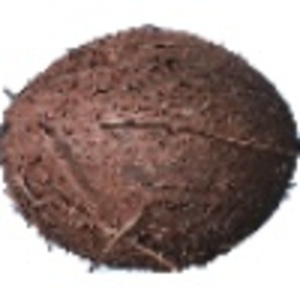coco: (1, 25, 300, 275)
